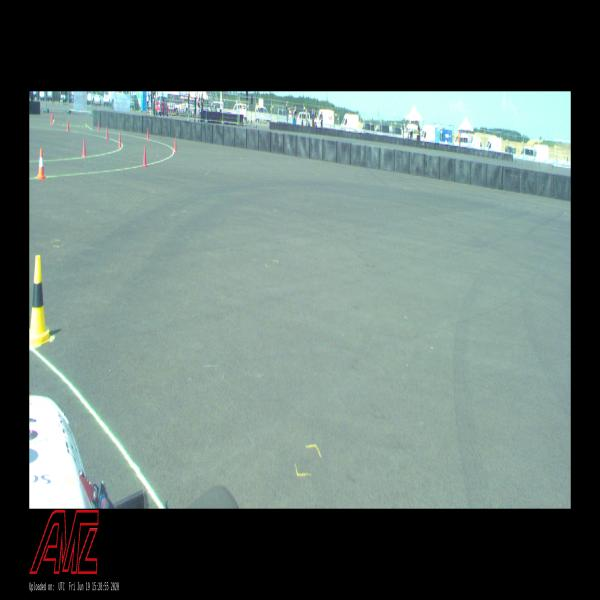orange_cone: (37, 149, 46, 179)
unknown_cone: (142, 146, 148, 167), (82, 138, 87, 157), (118, 132, 122, 149), (66, 119, 70, 132), (174, 137, 177, 153), (106, 126, 109, 139), (97, 120, 100, 131), (50, 114, 53, 125), (147, 127, 149, 140), (52, 112, 54, 120)
yellow_cone: (29, 256, 52, 347)
